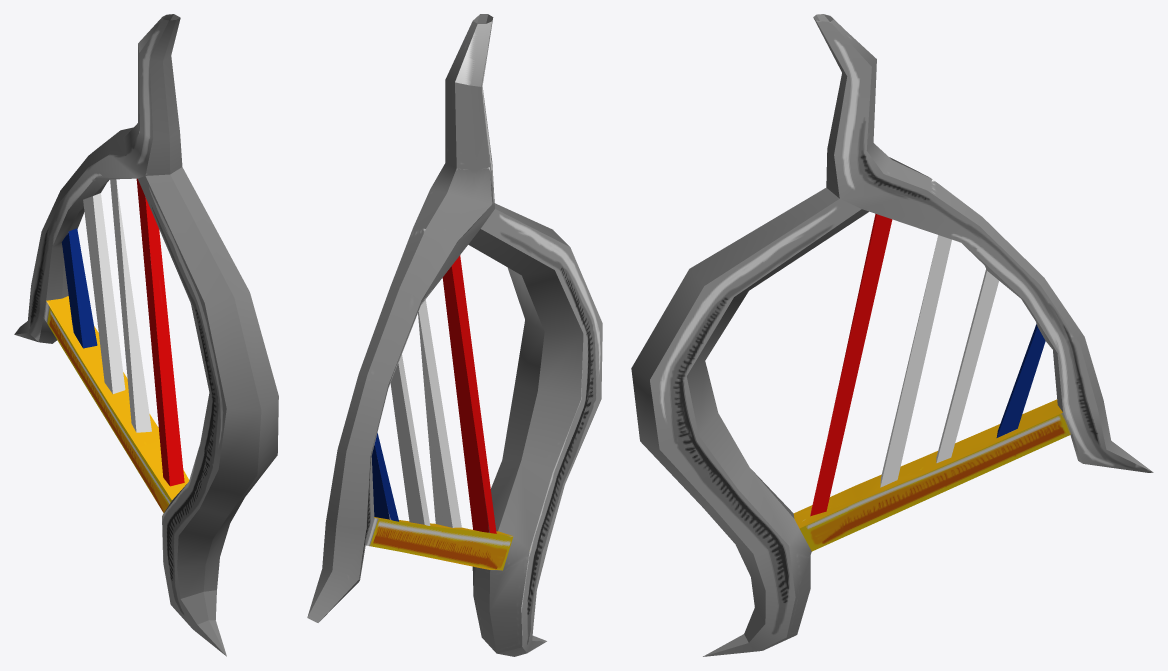
File: Arpa1_000008.obj
3 views of the same model, side by side, from view 1: azimuth 30°, elevation 25°; view 2: azimuth 150°, elevation 25°; view 3: azimuth 270°, elevation 25° (orthographic). The views are drawn at different scales.
Parts seen in each view (by area): view 1: a1_pCube7.001; view 2: a1_pCube7.001; view 3: a1_pCube7.001.
Part boxes in pixels (<box>): a1_pCube7.001: <box>14,14,278,656</box>; a1_pCube7.001: <box>307,14,602,656</box>; a1_pCube7.001: <box>631,14,1153,656</box>.
Bounding box in the file's own units: 1.04 × 10.05 × 7.43.
